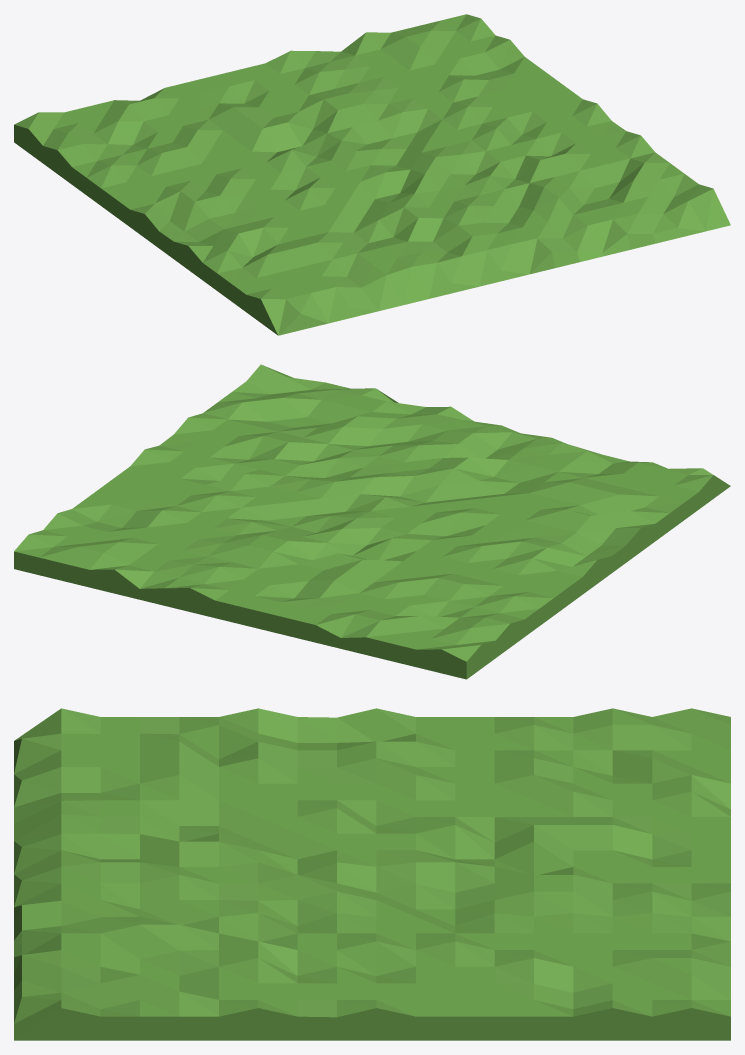
Rendered from green_2.FBX.
3 renders of one model, top to bottom at view 1: azimuth 30°, elevation 25°; view 2: azimuth 150°, elevation 25°; view 3: azimuth 270°, elevation 25°, orthographic. The views are drawn at different scales.
Parts seen in each view (by area): view 1: Plane003; view 2: Plane003; view 3: Plane003.
Part boxes in pixels (bbox=[...]): Plane003: bbox=[14, 14, 730, 335]; Plane003: bbox=[14, 364, 730, 679]; Plane003: bbox=[14, 708, 730, 1040].
Size of the model in its own units: 709 by 35.92 by 717.
Materials: 1 (1 with a texture image).
